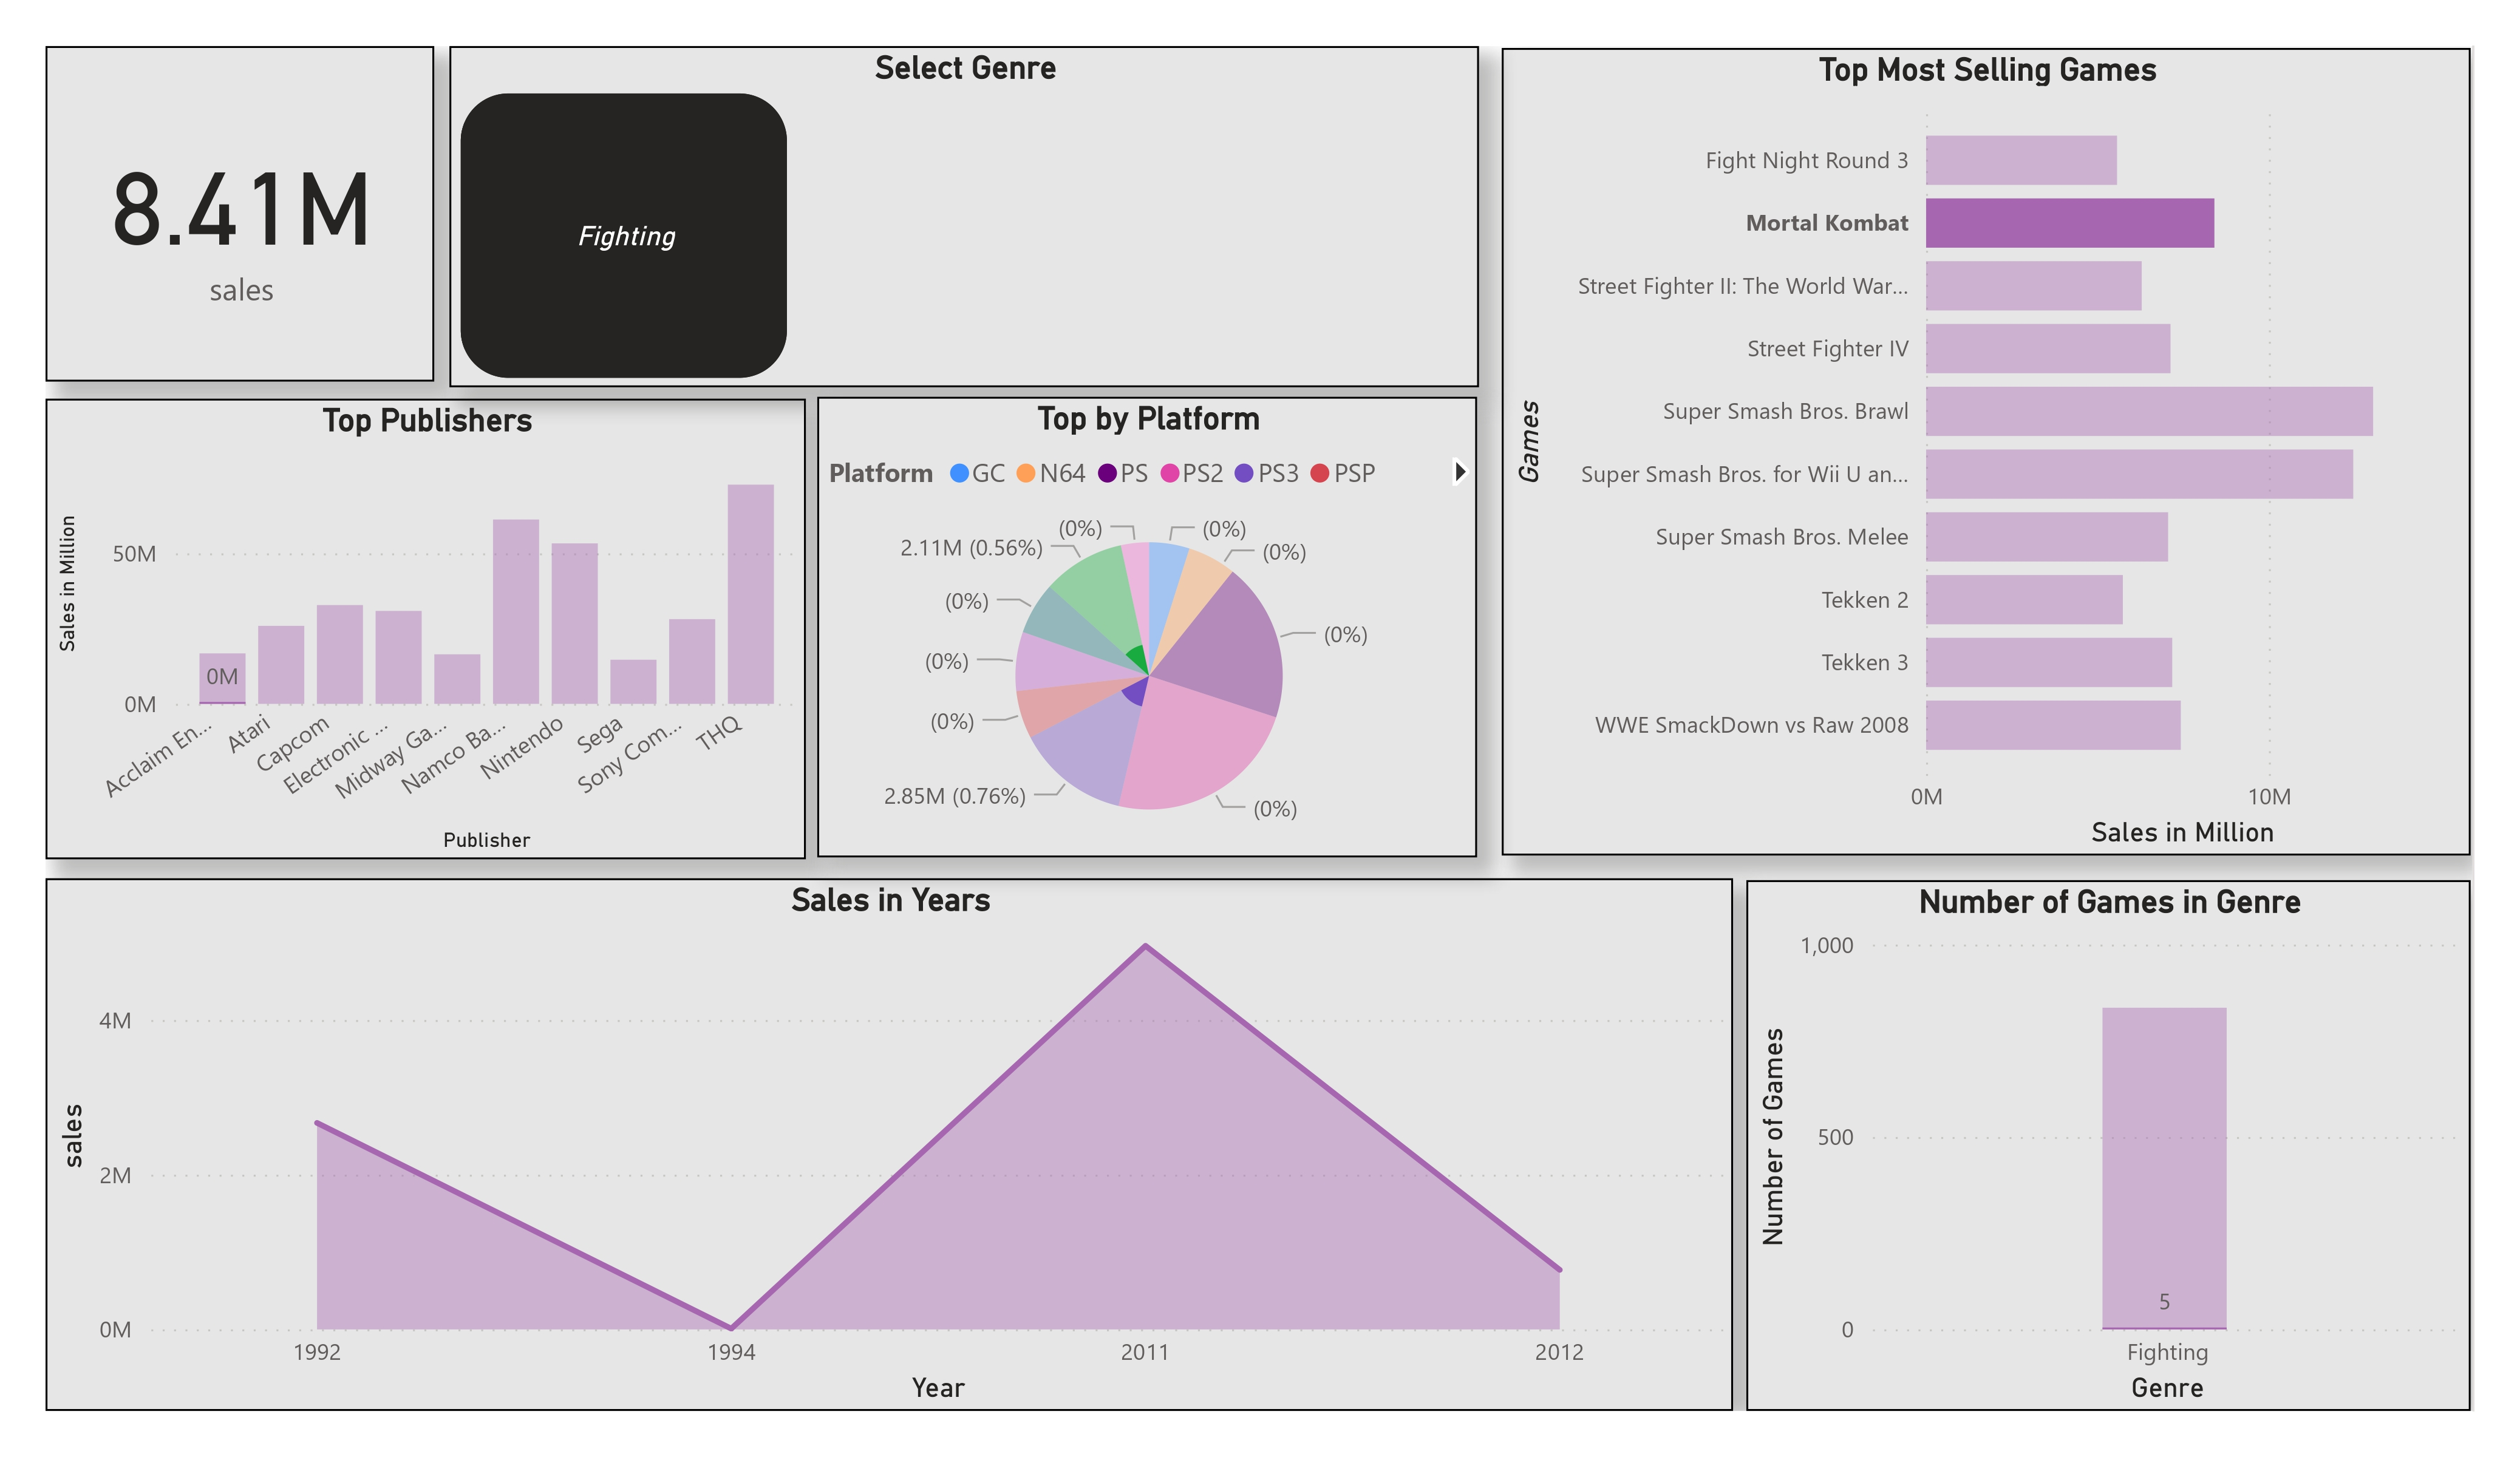

This screenshot's page, from the dashboard's own definition file:
{"tool":"powerbi","page":{"name":"Page 1","canvas":[1280,720],"ordinal":0},"visuals":[{"type":"barChart","title":"Top Most Selling Games","fields":{"Category":["vgsales.Name"],"Y":["vgsales.sales"]},"box":[767.9,1.1,511.6,426.1],"z":0},{"type":"card","fields":{"Values":["vgsales.sales"]},"box":[0,0,204.6,177.5],"z":1000},{"type":"columnChart","title":"Top Publishers","fields":{"Category":["vgsales.Publisher"],"Y":["vgsales.sales"]},"box":[0,186.3,401.3,243],"z":2000},{"type":"areaChart","title":"Sales in Years","fields":{"Category":["vgsales.Year"],"Y":["vgsales.sales"]},"box":[0,438.6,889.5,281.4],"z":3000},{"type":"advancedSlicerVisual","title":"Select Genre","fields":{"Values":["vgsales.Genre"]},"box":[212.9,0,543.2,179.7],"z":4000},{"type":"pieChart","title":"Top by Platform","fields":{"Category":["vgsales.Platform"],"Y":["vgsales.sales"]},"box":[406.7,185.1,348.1,243],"z":5000},{"type":"columnChart","title":"Number of Games in  Genre","fields":{"Category":["vgsales.Genre"],"Y":["CountNonNull(vgsales.Name)"]},"box":[897.5,440.4,382,279.6],"z":6000}]}

Visuals, with their boxes in screenshot pixels (x1, y1, x2, y2):
"Top Most Selling Games" barChart: [left=1503, top=47, right=2473, bottom=856]
card - vgsales.sales: [left=46, top=46, right=434, bottom=382]
"Top Publishers" columnChart: [left=46, top=399, right=807, bottom=860]
"Sales in Years" areaChart: [left=46, top=878, right=1734, bottom=1411]
"Select Genre" advancedSlicerVisual: [left=449, top=46, right=1480, bottom=387]
"Top by Platform" pieChart: [left=817, top=396, right=1478, bottom=858]
"Number of Games in  Genre" columnChart: [left=1749, top=881, right=2473, bottom=1411]
